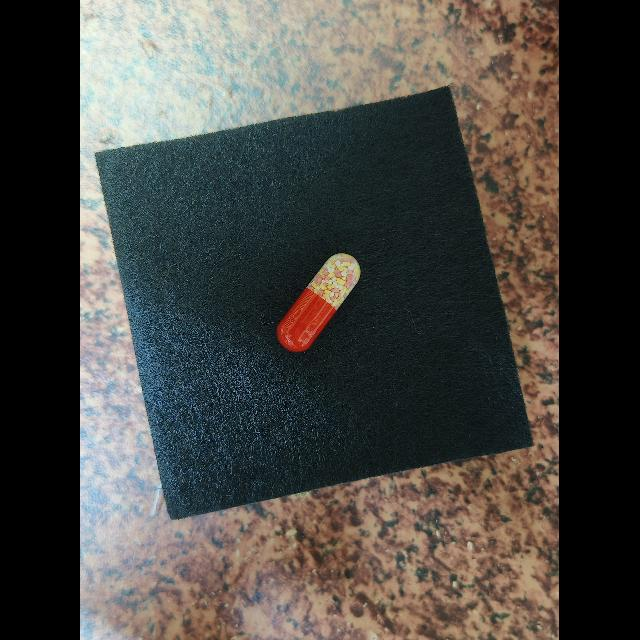Intact Capsule: (277, 253, 361, 352)
